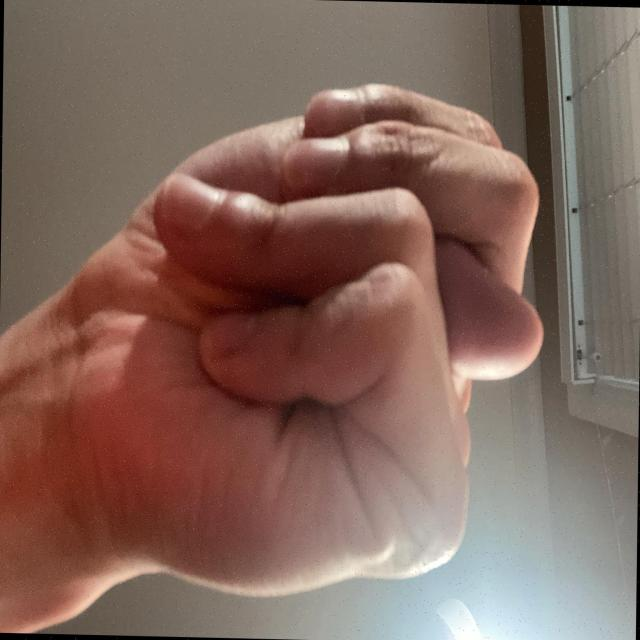N: (206, 114, 617, 640)
